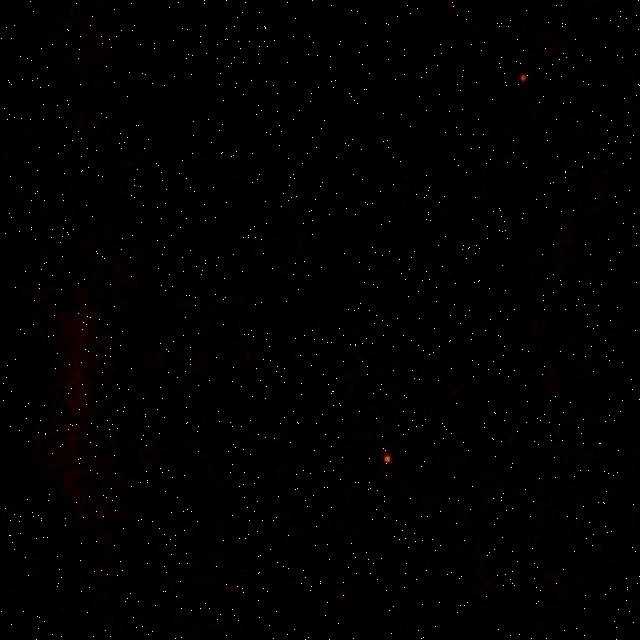Fragment: (379, 450, 396, 468)
